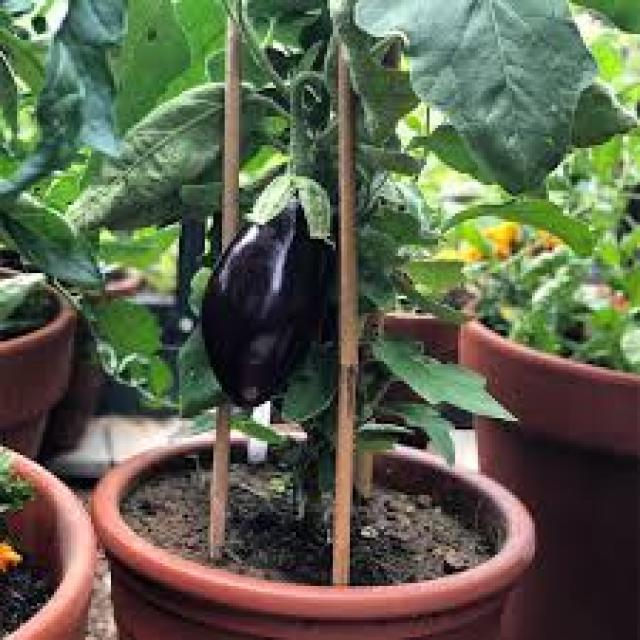Eggplant: (192, 105, 342, 403)
